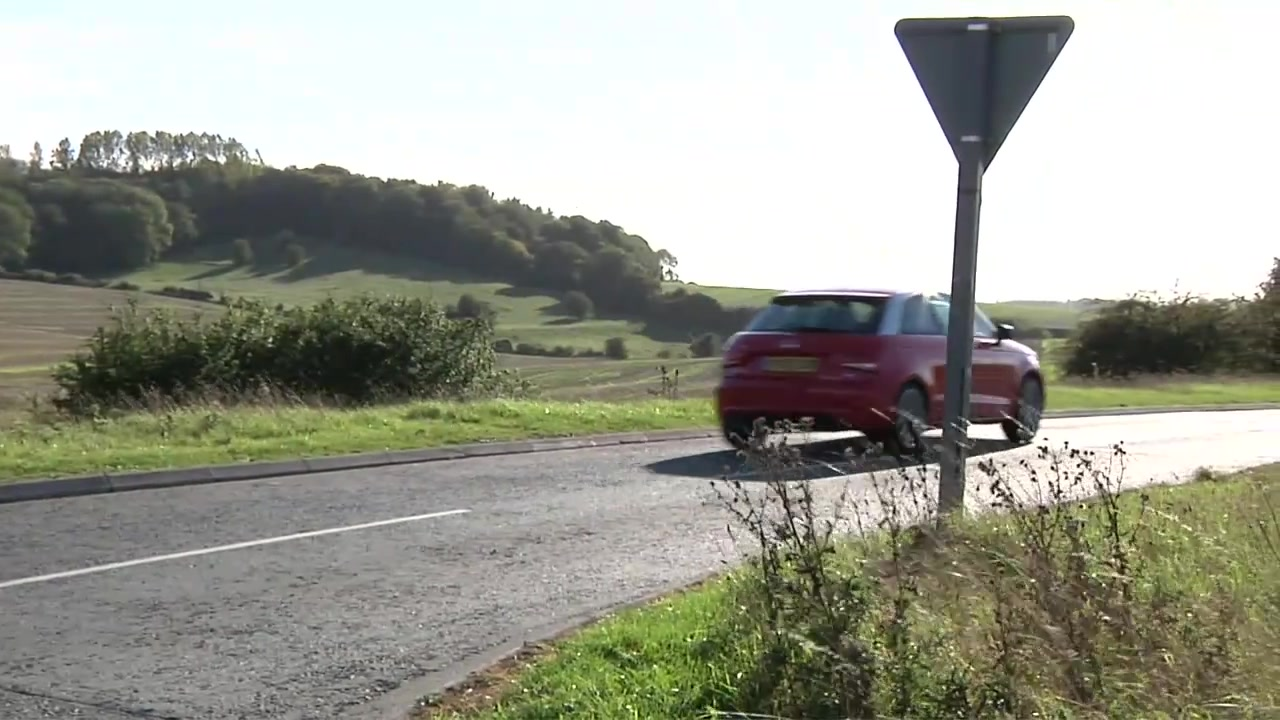car: (712, 284, 1049, 455)
